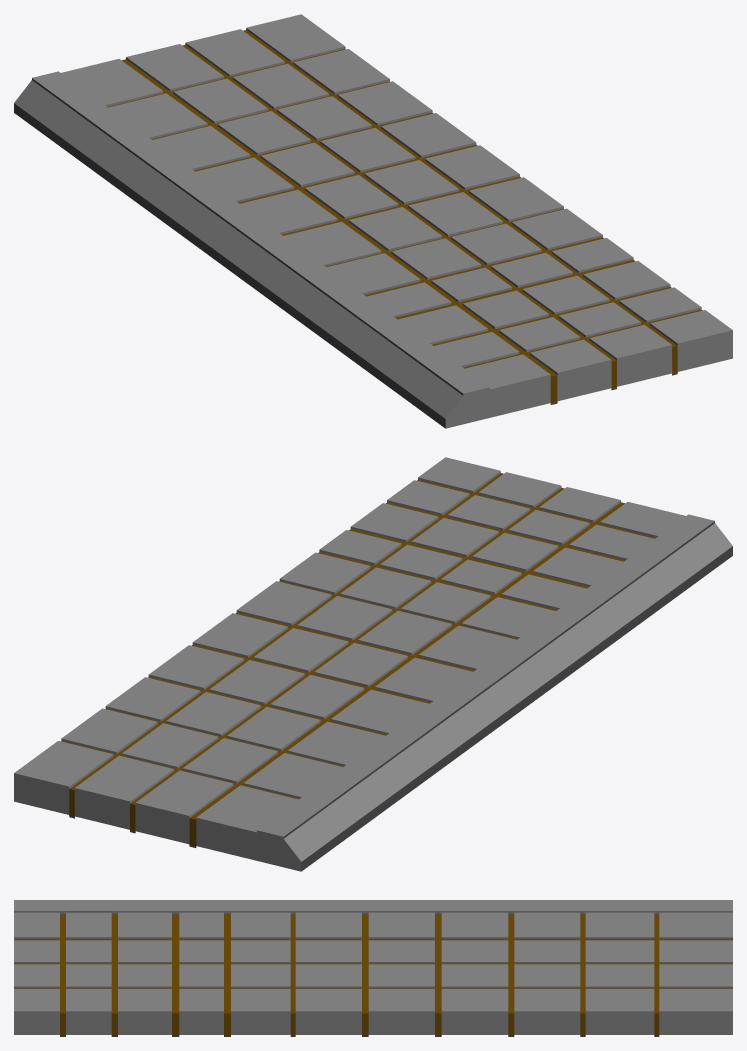
The model's file is weg 2.fbx.
3 views of the same model, one above another, from view 1: azimuth 30°, elevation 25°; view 2: azimuth 150°, elevation 25°; view 3: azimuth 270°, elevation 25° (orthographic). The views are drawn at different scales.
Visible parts, largest first — view 1: Plane; view 2: Plane; view 3: Plane.
Boxes of the visible parts, <box> form: Plane: <box>14,14,732,428</box>; Plane: <box>14,457,732,871</box>; Plane: <box>14,900,732,1036</box>.
Size of the model in its own units: 787 by 85.69 by 2046.
